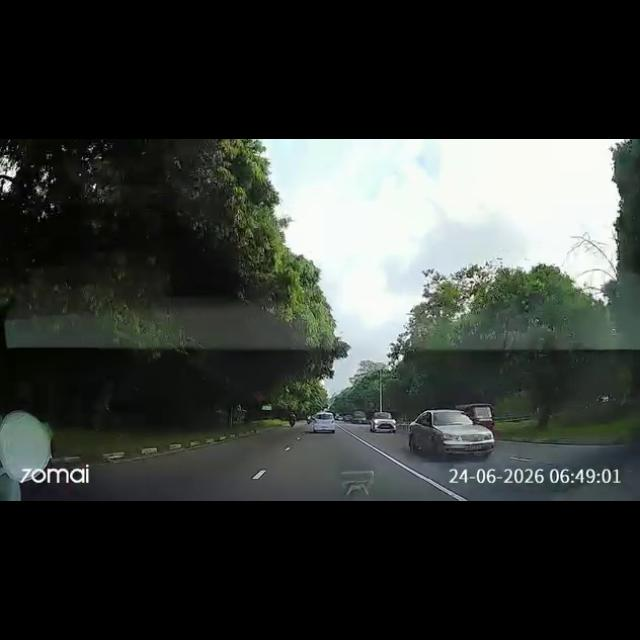broken_line: (245, 438, 308, 494)
car: (422, 411, 463, 453), (313, 414, 335, 434), (371, 416, 395, 432)
solid_line: (383, 458, 475, 502)
three_wheeler: (472, 405, 490, 425)
